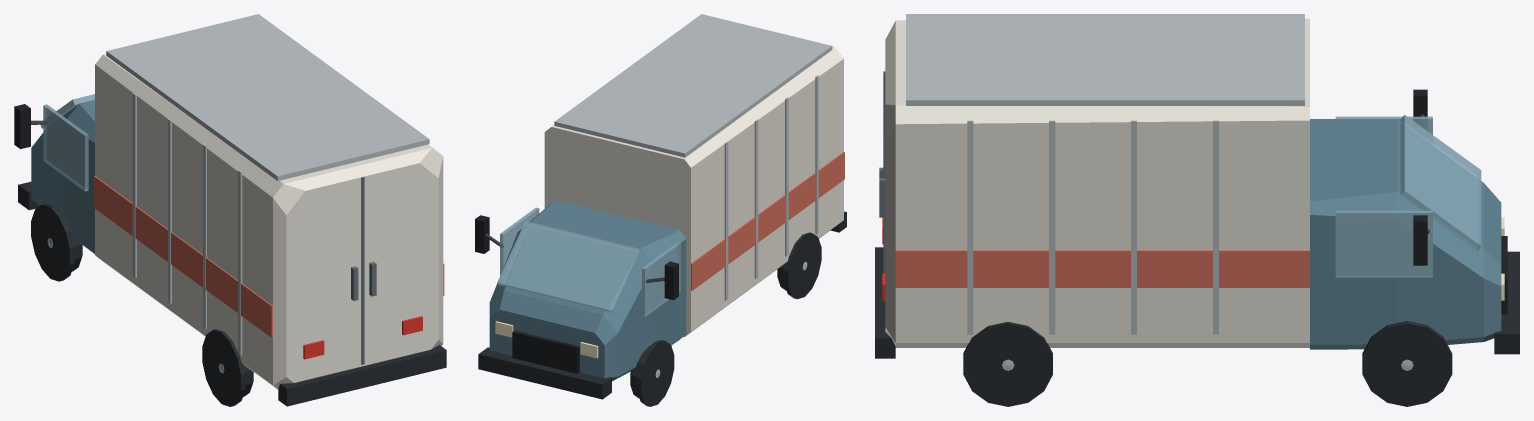
Rendered from LAND_06.obj.
3 renders of one model, left to right at view 1: azimuth 30°, elevation 25°; view 2: azimuth 150°, elevation 25°; view 3: azimuth 270°, elevation 25°, orthographic. The views are drawn at different scales.
Parts seen in each view (by area): view 1: cargo_box, roof_ribs, stripe, cab, bumpers, ribs, windows, wheel_F_L_arch, wheel_R_L_arch, rear_doors, mirrors, lights; view 2: cargo_box, cab, roof_ribs, windows, stripe, bumpers, ribs, grille, wheel_F_L_arch, wheel_R_L_arch, mirrors, lights; view 3: cargo_box, roof_ribs, cab, stripe, windows, wheel_F_R_arch, wheel_R_R_arch, ribs, bumpers, mirrors, rear_doors.
Part boxes in pixels (x1=…): cargo_box: x1=95, y1=54, x2=443, y2=389; roof_ribs: x1=106, y1=14, x2=429, y2=180; stripe: x1=94, y1=176, x2=444, y2=337; cab: x1=31, y1=99, x2=94, y2=253; bumpers: x1=18, y1=181, x2=446, y2=406; ribs: x1=132, y1=93, x2=242, y2=355; windows: x1=40, y1=94, x2=94, y2=191; wheel_F_L_arch: x1=31, y1=203, x2=74, y2=281; wheel_R_L_arch: x1=202, y1=329, x2=245, y2=406; rear_doors: x1=351, y1=177, x2=376, y2=364; mirrors: x1=14, y1=104, x2=47, y2=148; lights: x1=303, y1=316, x2=422, y2=359; cargo_box: x1=544, y1=46, x2=843, y2=336; cab: x1=489, y1=200, x2=686, y2=381; roof_ribs: x1=554, y1=14, x2=832, y2=157; windows: x1=497, y1=207, x2=680, y2=316; stripe: x1=691, y1=152, x2=844, y2=290; bumpers: x1=478, y1=211, x2=846, y2=399; ribs: x1=724, y1=75, x2=818, y2=300; grille: x1=512, y1=330, x2=579, y2=373; wheel_F_L_arch: x1=637, y1=340, x2=674, y2=406; wheel_R_L_arch: x1=784, y1=232, x2=821, y2=299; mirrors: x1=475, y1=215, x2=678, y2=300; lights: x1=495, y1=321, x2=598, y2=358; cargo_box: x1=885, y1=18, x2=1309, y2=347; roof_ribs: x1=906, y1=14, x2=1304, y2=105; cab: x1=1310, y1=119, x2=1501, y2=349; stripe: x1=895, y1=250, x2=1309, y2=287; windows: x1=1335, y1=115, x2=1481, y2=277; wheel_F_R_arch: x1=1362, y1=321, x2=1452, y2=406; wheel_R_R_arch: x1=963, y1=322, x2=1052, y2=406; ribs: x1=967, y1=120, x2=1218, y2=334; bumpers: x1=875, y1=247, x2=1519, y2=358; mirrors: x1=1413, y1=89, x2=1429, y2=265; rear_doors: x1=879, y1=71, x2=885, y2=273.
Bounding box in the file's own units: 3.04 × 3.23 × 6.3.
